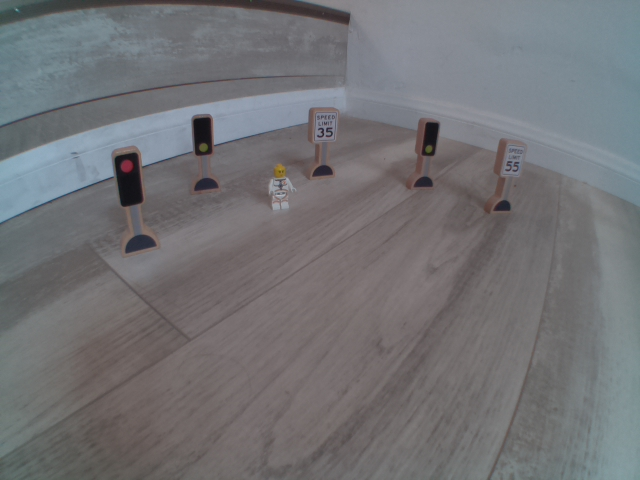Green Traffic Light: (192, 117, 216, 156), (419, 121, 441, 157)
Red Traffic Light: (112, 150, 146, 206)
Speed Limit 35: (311, 108, 337, 143)
Speed Limit 55: (503, 141, 524, 179)
person: (265, 163, 297, 211)
